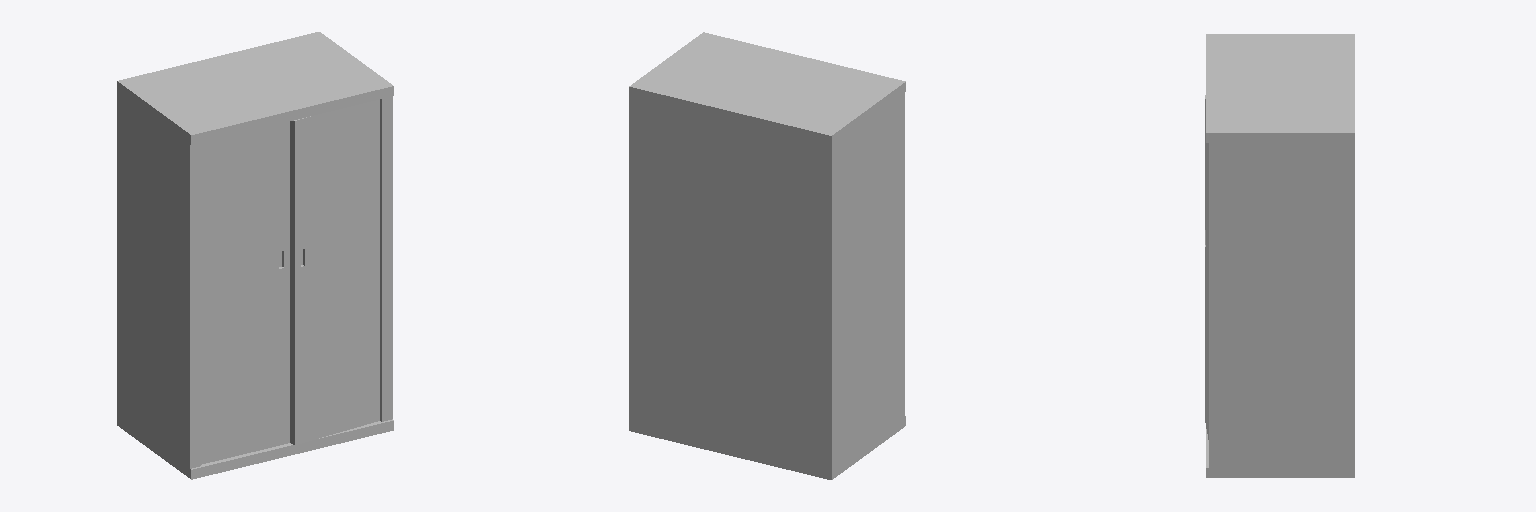
File: wardrobe.obj
3 renders of one model, left to right at view 1: azimuth 30°, elevation 25°; view 2: azimuth 150°, elevation 25°; view 3: azimuth 270°, elevation 25°, orthographic.
Parts seen in each view (by area): view 1: polySurface7; view 2: polySurface7; view 3: polySurface7.
Boxes of the visible parts, box(x1,y1,x2,y2) form: polySurface7: box(117, 32, 393, 479); polySurface7: box(629, 32, 905, 479); polySurface7: box(1205, 34, 1354, 477).
Bounding box in the file's own units: 32 × 52 × 20.61.